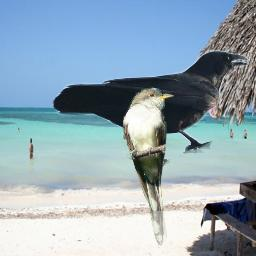Crow: (52, 50, 251, 167)
Cuckoo: (123, 87, 174, 246)
